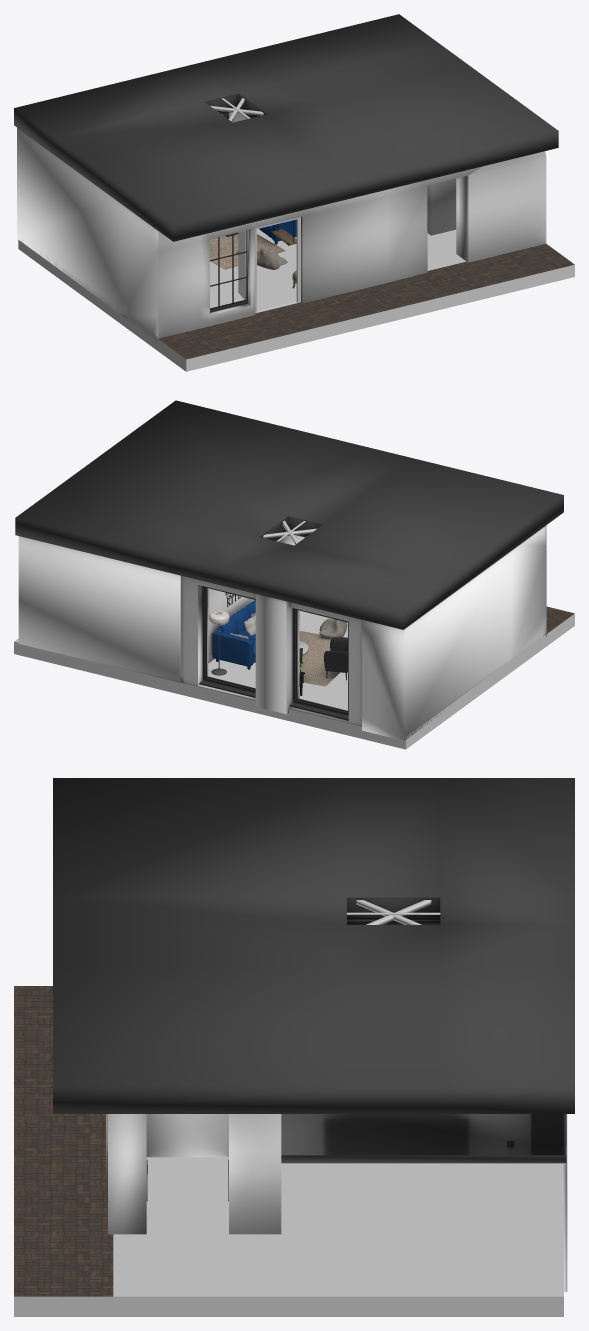
3 renders of one model, top to bottom at view 1: azimuth 30°, elevation 25°; view 2: azimuth 150°, elevation 25°; view 3: azimuth 270°, elevation 25°, orthographic. The views are drawn at different scales.
Visible parts, largest first — view 1: SM_ceiling, SM_wall, SM_floor_exterior, SM_floor_trim.001, SM_floor_trim, SM_carpet, SM_door_frame, SM_window_frames_001, SM_door, SM_cushions; view 2: SM_ceiling, SM_wall, SM_floor_trim.001, SM_floor_trim, SM_window_frames, SM_sofa_long, SM_carpet, SM_arm_chair_001, SM_cushions, SM_lamp_standing; view 3: SM_ceiling, SM_floor_trim, SM_wall, SM_floor_exterior, SM_floor_trim.001, SM_ceiling_structure.
Part boxes in pixels (x1=…): SM_ceiling: x1=14, y1=14, x2=558, y2=241; SM_wall: x1=17, y1=112, x2=546, y2=341; SM_floor_exterior: x1=158, y1=243, x2=574, y2=359; SM_floor_trim.001: x1=18, y1=240, x2=574, y2=371; SM_floor_trim: x1=210, y1=229, x2=466, y2=310; SM_carpet: x1=210, y1=234, x2=285, y2=269; SM_door_frame: x1=255, y1=217, x2=300, y2=313; SM_window_frames_001: x1=210, y1=230, x2=247, y2=312; SM_door: x1=236, y1=230, x2=245, y2=299; SM_cushions: x1=257, y1=248, x2=287, y2=269; SM_ceiling: x1=15, y1=400, x2=563, y2=629; SM_wall: x1=18, y1=525, x2=546, y2=740; SM_floor_trim.001: x1=14, y1=613, x2=574, y2=749; SM_floor_trim: x1=14, y1=610, x2=347, y2=710; SM_window_frames: x1=199, y1=586, x2=348, y2=720; SM_sofa_long: x1=212, y1=600, x2=255, y2=669; SM_carpet: x1=299, y1=631, x2=339, y2=686; SM_arm_chair_001: x1=323, y1=637, x2=347, y2=680; SM_cushions: x1=230, y1=613, x2=347, y2=638; SM_lamp_standing: x1=209, y1=610, x2=229, y2=675; SM_ceiling: x1=53, y1=778, x2=574, y2=1113; SM_floor_trim: x1=113, y1=1157, x2=563, y2=1296; SM_wall: x1=106, y1=1114, x2=567, y2=1291; SM_floor_exterior: x1=14, y1=986, x2=113, y2=1296; SM_floor_trim.001: x1=14, y1=1296, x2=563, y2=1316; SM_ceiling_structure: x1=347, y1=900, x2=440, y2=924.
Bounding box in the file's own units: 9.99 × 3.36 × 7.52.
